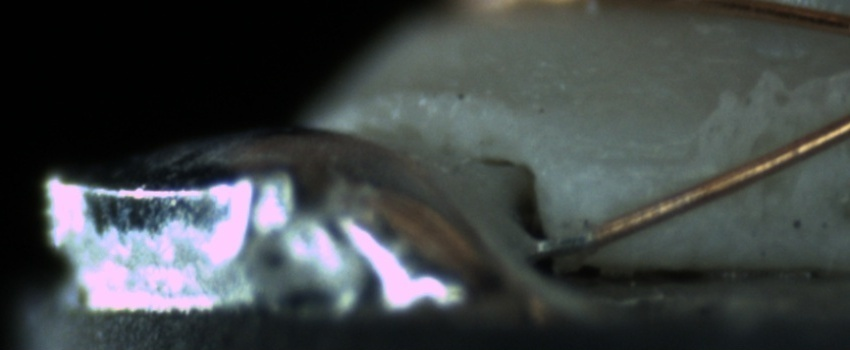DL: (571, 127, 706, 191)
TS: (534, 229, 597, 258)
